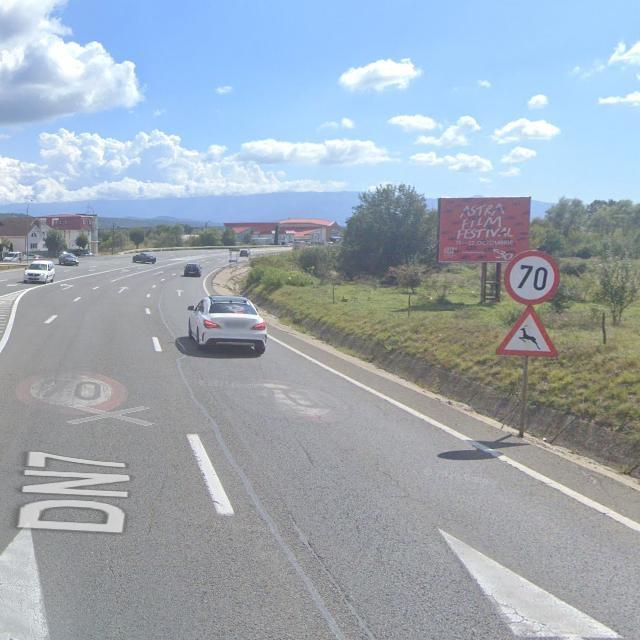forb_speed_over_70: (503, 249, 561, 307)
